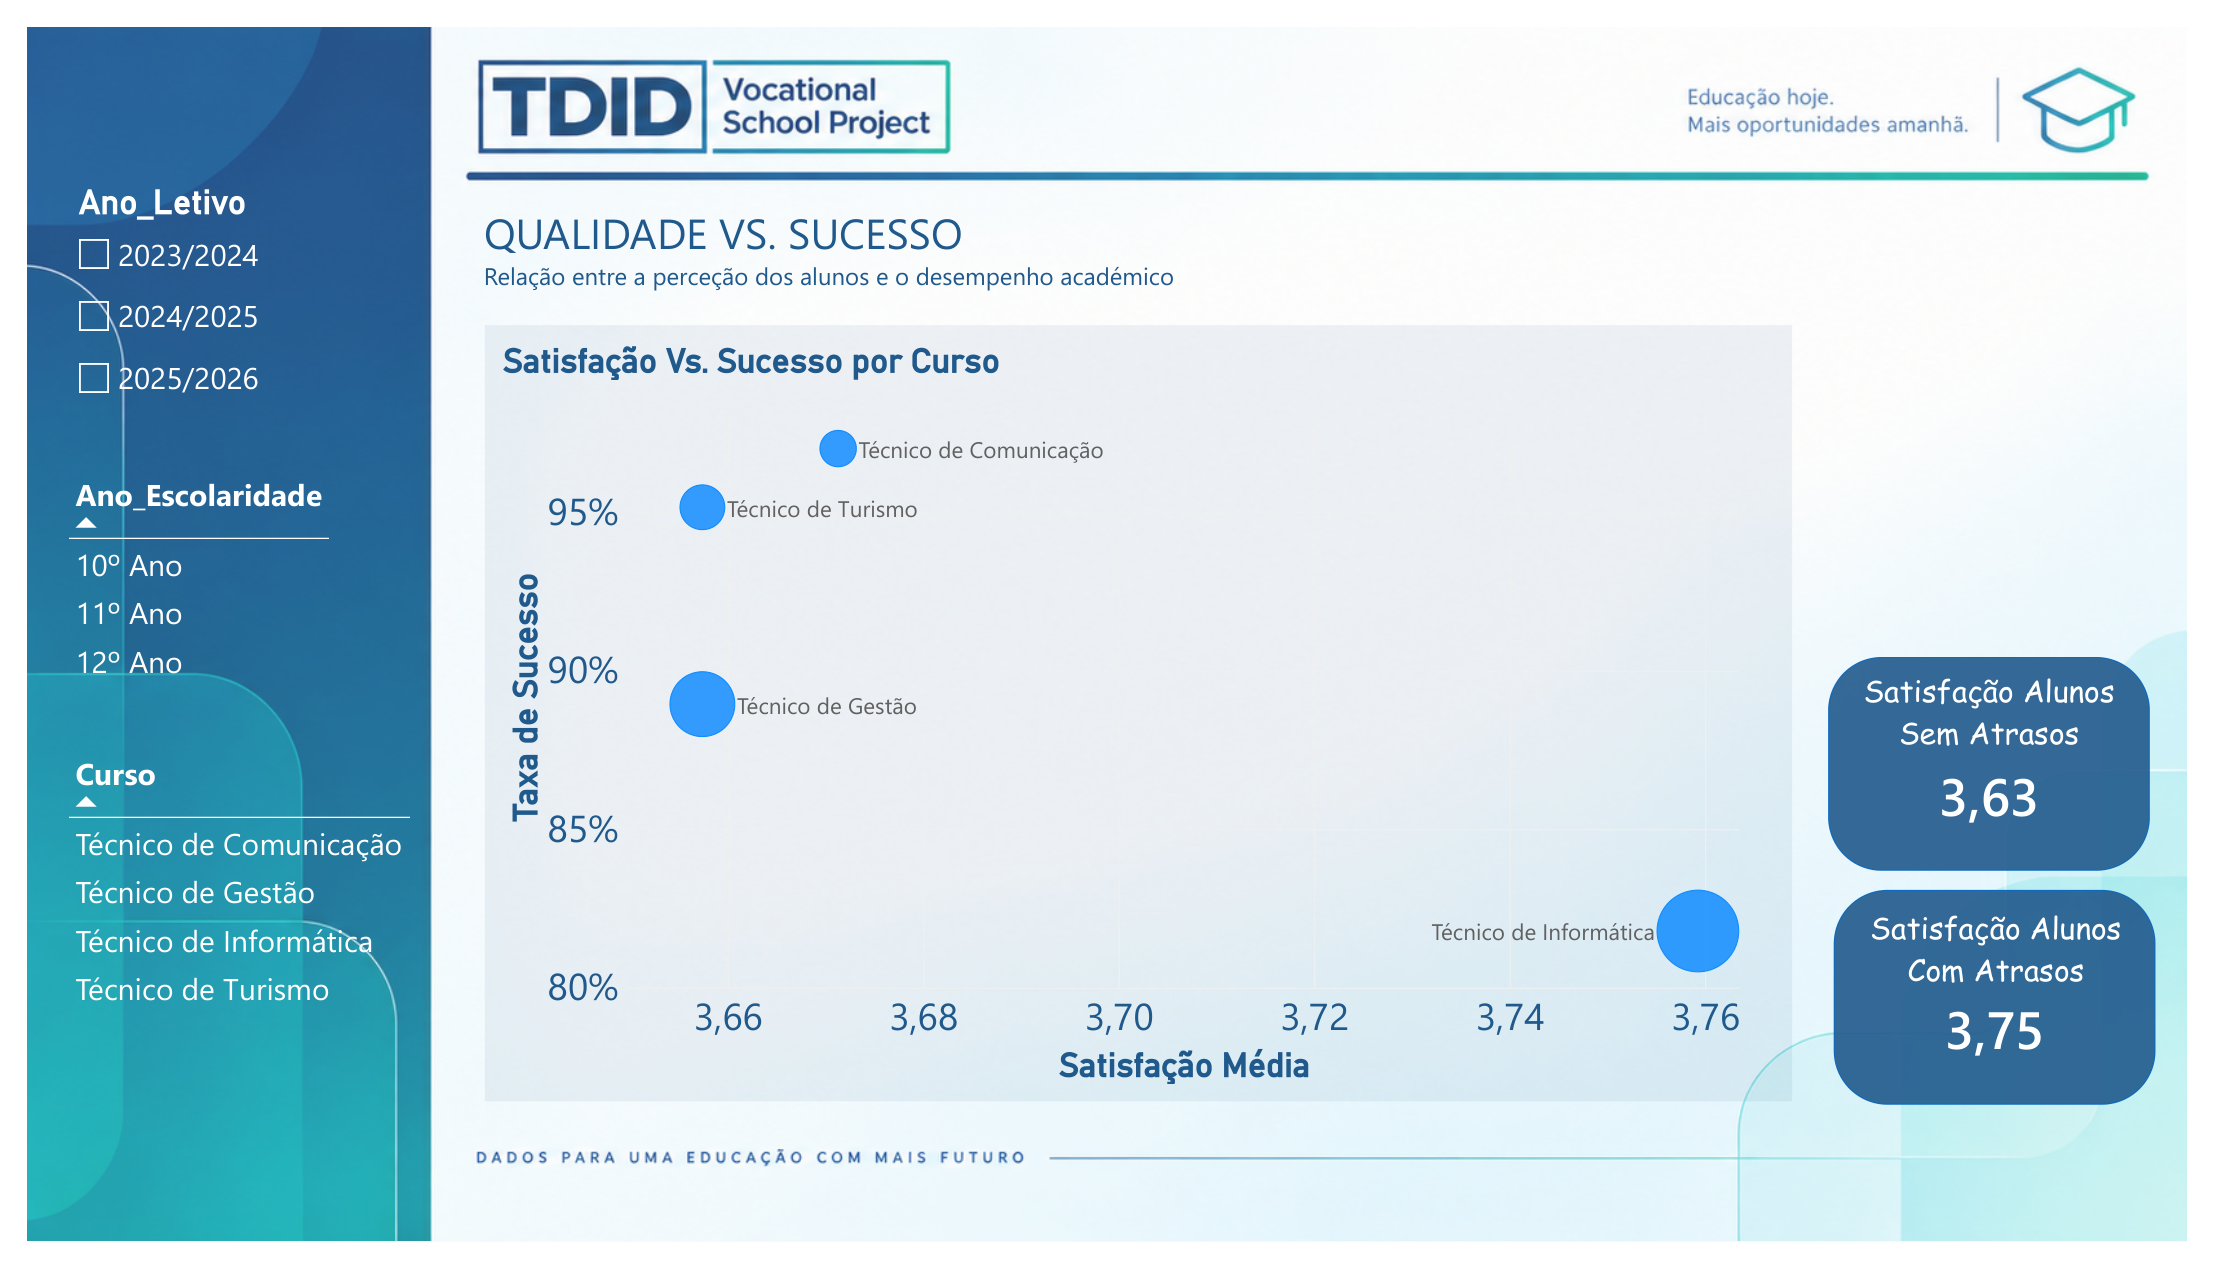

The dashboard page shown, as its layout file describes it:
{"tool":"powerbi","page":{"name":"Qualidade vs Sucesso","canvas":[1920,1080],"ordinal":3},"visuals":[{"type":"tableEx","fields":{"Values":["dCurso.Curso"]},"box":[21.5,627.5,362.7,326.9],"z":0},{"type":"slicer","fields":{"Values":["dCalendario.Ano_Letivo"]},"box":[38.2,138.4,195.6,217.1],"z":1000},{"type":"tableEx","fields":{"Values":["dMatricula.Ano_Escolaridade"]},"box":[21.5,379.4,295.9,248.1],"z":2000},{"type":"textbox","box":[405.6,157.5,629.9,124.1],"z":3000},{"type":"scatterChart","title":"Satisfação Vs. Sucesso por Curso","fields":{"Category":["dCurso.Curso"],"Size":["_Medidas.Média Módulos em Atraso por Aluno"],"X":["_Medidas.Satisfação Média"],"Y":["_Medidas.Taxa de Sucesso"]},"box":[406.7,265.4,1162.4,689.4],"z":4000},{"type":"shape","box":[1601.1,559.6,286.3,190.9],"z":5000},{"type":"shape","box":[1606.1,767.2,286.3,190.9],"z":6000},{"type":"card","fields":{"Values":["_Medidas.Satisfação Alunos sem Atrasos"]},"box":[1600.8,607.7,286.3,150.3],"z":7000},{"type":"card","fields":{"Values":["_Medidas.Satisfação Alunos com Atrasos"]},"box":[1605.8,815.4,286.3,150.3],"z":8000},{"type":"textbox","box":[1623.1,571.2,242.3,83.6],"z":9000},{"type":"textbox","box":[1628.9,781.7,242.3,83.6],"z":10000}]}

Visuals, with their boxes in screenshot pixels (x1, y1, x2, y2), scaled from the page's 1920x1080 canvas onto the 2214x1269 screenshot:
tableEx - dCurso.Curso: crop(25, 737, 443, 1121)
slicer - dCalendario.Ano_Letivo: crop(44, 163, 270, 418)
tableEx - dMatricula.Ano_Escolaridade: crop(25, 446, 366, 737)
textbox: crop(468, 185, 1194, 331)
"Satisfação Vs. Sucesso por Curso" scatterChart: crop(469, 312, 1809, 1122)
shape: crop(1846, 658, 2176, 882)
shape: crop(1852, 901, 2182, 1126)
card - _Medidas.Satisfação Alunos sem Atrasos: crop(1846, 714, 2176, 891)
card - _Medidas.Satisfação Alunos com Atrasos: crop(1852, 958, 2182, 1135)
textbox: crop(1872, 671, 2151, 769)
textbox: crop(1878, 918, 2158, 1017)
